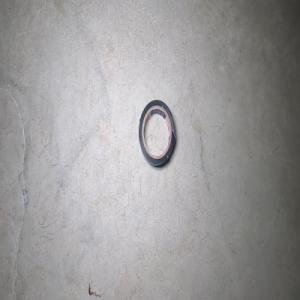Tape: (138, 99, 176, 166)
